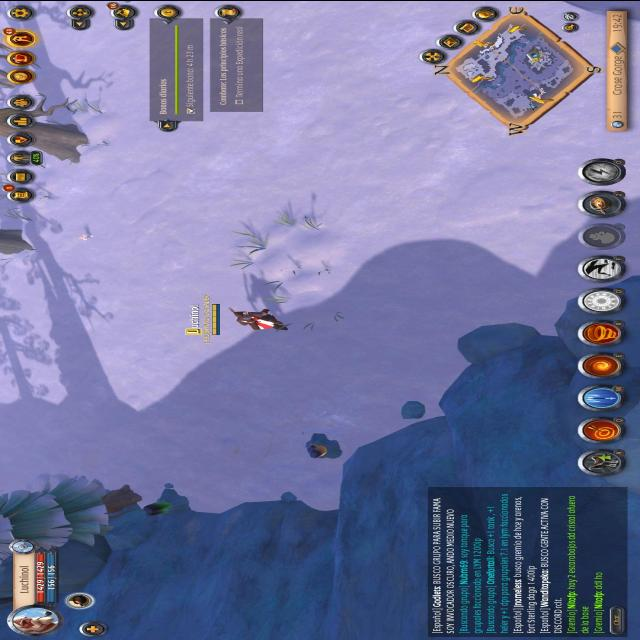piedra_cobre: (301, 428, 347, 458)
